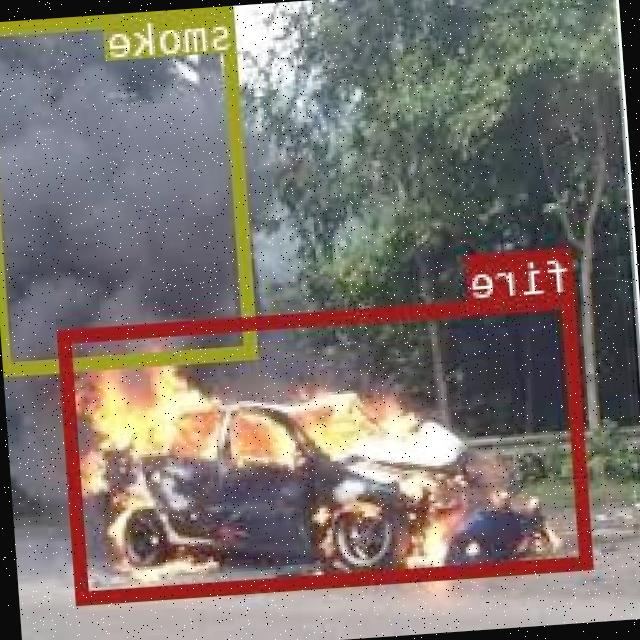fire: (61, 292, 594, 602)
smoke: (0, 5, 260, 371)
